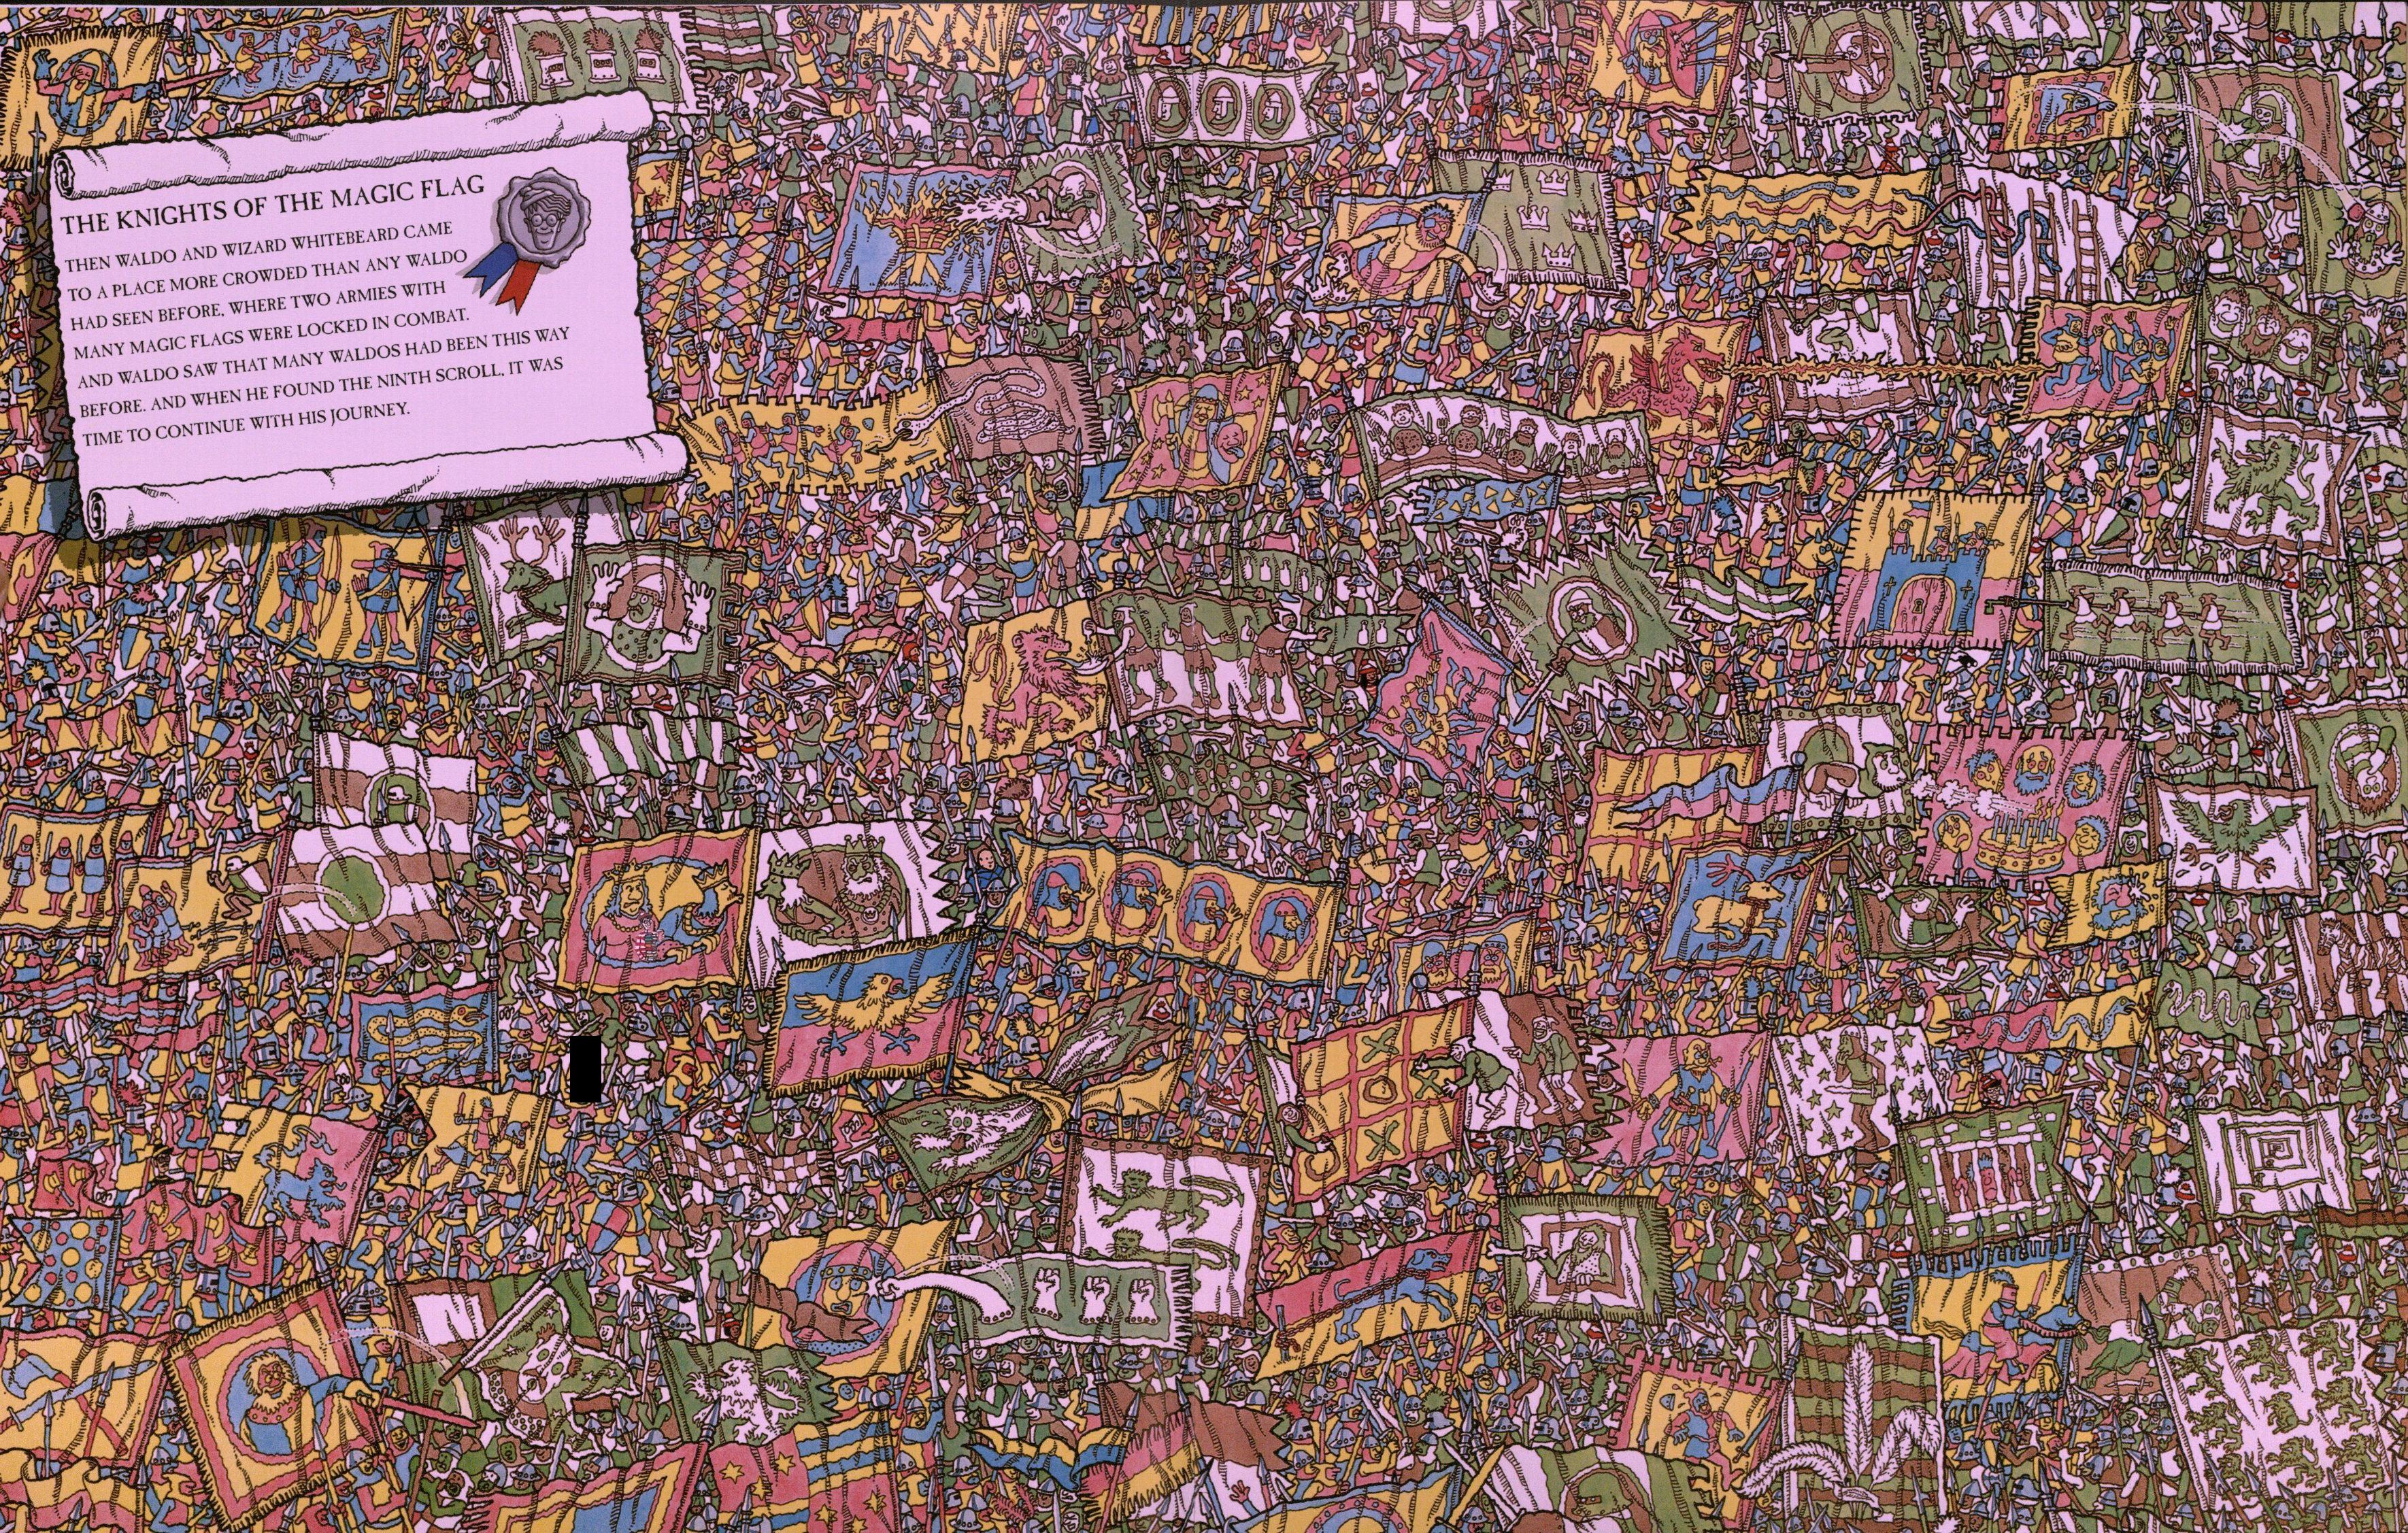waldos: (635, 907, 665, 973)
